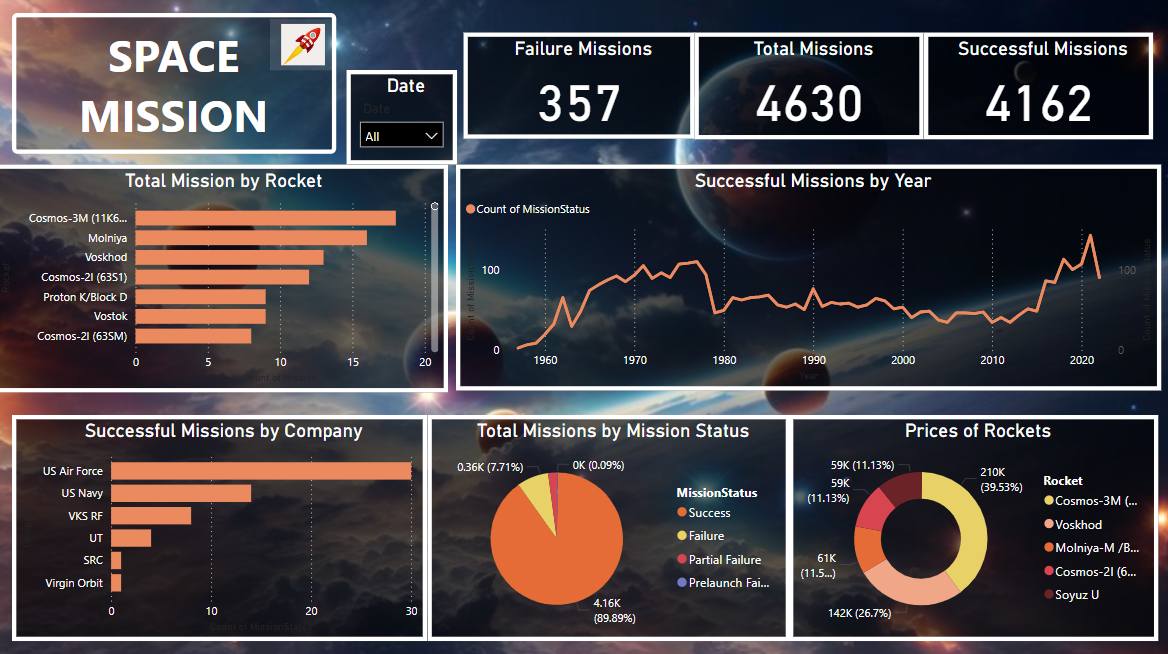

Layout of this report page (visuals, bound fields, positions):
{"tool":"powerbi","page":{"name":"Page 1","canvas":[1280,720],"ordinal":0},"visuals":[{"type":"image","box":[0,0,1279.2,720.6],"z":0},{"type":"card","title":"Total Missions","fields":{"Values":["CountNonNull(space_missions.Mission)"]},"box":[759.7,39.7,247.6,115.3],"z":1000},{"type":"card","title":"Successful Missions","fields":{"Values":["CountNonNull(space_missions.Mission)"]},"box":[1007.3,39.7,247.6,115.3],"z":2000},{"type":"card","title":"Failure Missions","fields":{"Values":["CountNonNull(space_missions.Mission)"]},"box":[510.1,40.5,249.4,115],"z":3000},{"type":"clusteredBarChart","title":"Total Mission by Rocket","fields":{"Category":["space_missions.Rocket"],"Y":["Count(space_missions.Mission)"]},"box":[0,183.3,493.2,245.7],"z":4000},{"type":"lineChart","title":"Successful Missions by Year","fields":{"Category":["space_missions.Date.Variation.Date Hierarchy.Year","space_missions.Date.Variation.Date Hierarchy.Quarter","space_missions.Date.Variation.Date Hierarchy.Month","space_missions.Date.Variation.Date Hierarchy.Day"],"Y":["CountNonNull(space_missions.MissionStatus)"],"Y2":["CountNonNull(space_missions.MissionStatus)"]},"box":[502.7,183.3,761.6,243.8],"z":5000},{"type":"clusteredBarChart","title":"Successful Missions by Company","fields":{"Category":["space_missions.Company"],"Y":["CountNonNull(space_missions.MissionStatus)"]},"box":[22.7,453.5,447.9,243.8],"z":6000},{"type":"pieChart","title":"Total Missions by Mission Status","fields":{"Category":["space_missions.MissionStatus"],"Y":["CountNonNull(space_missions.Mission)"]},"box":[470.6,453.5,391.2,243.8],"z":7000},{"type":"donutChart","title":"Prices of Rockets","fields":{"Category":["space_missions.Rocket"],"Y":["Sum(space_missions.Price)"]},"box":[861.7,453.5,398.7,243.8],"z":7001},{"type":"slicer","title":"Date","fields":{"Values":["space_missions.Date"]},"box":[383.6,81.3,119.1,102],"z":7002},{"type":"textbox","box":[22.7,19.4,349.8,152.2],"z":7003},{"type":"image","box":[301.2,25.9,71.2,55.1],"z":7004}]}

Visuals, with their boxes in screenshot pixels (x1, y1, x2, y2), scaled from the page's 1280x720 canvas onto the 1168x654 screenshot:
image: bbox(0, 0, 1167, 653)
"Total Missions" card: bbox(693, 36, 919, 141)
"Successful Missions" card: bbox(919, 36, 1145, 141)
"Failure Missions" card: bbox(465, 37, 693, 141)
"Total Mission by Rocket" clusteredBarChart: bbox(0, 166, 450, 390)
"Successful Missions by Year" lineChart: bbox(459, 166, 1154, 388)
"Successful Missions by Company" clusteredBarChart: bbox(21, 412, 429, 633)
"Total Missions by Mission Status" pieChart: bbox(429, 412, 786, 633)
"Prices of Rockets" donutChart: bbox(786, 412, 1150, 633)
"Date" slicer: bbox(350, 74, 459, 166)
textbox: bbox(21, 18, 340, 156)
image: bbox(275, 24, 340, 74)
